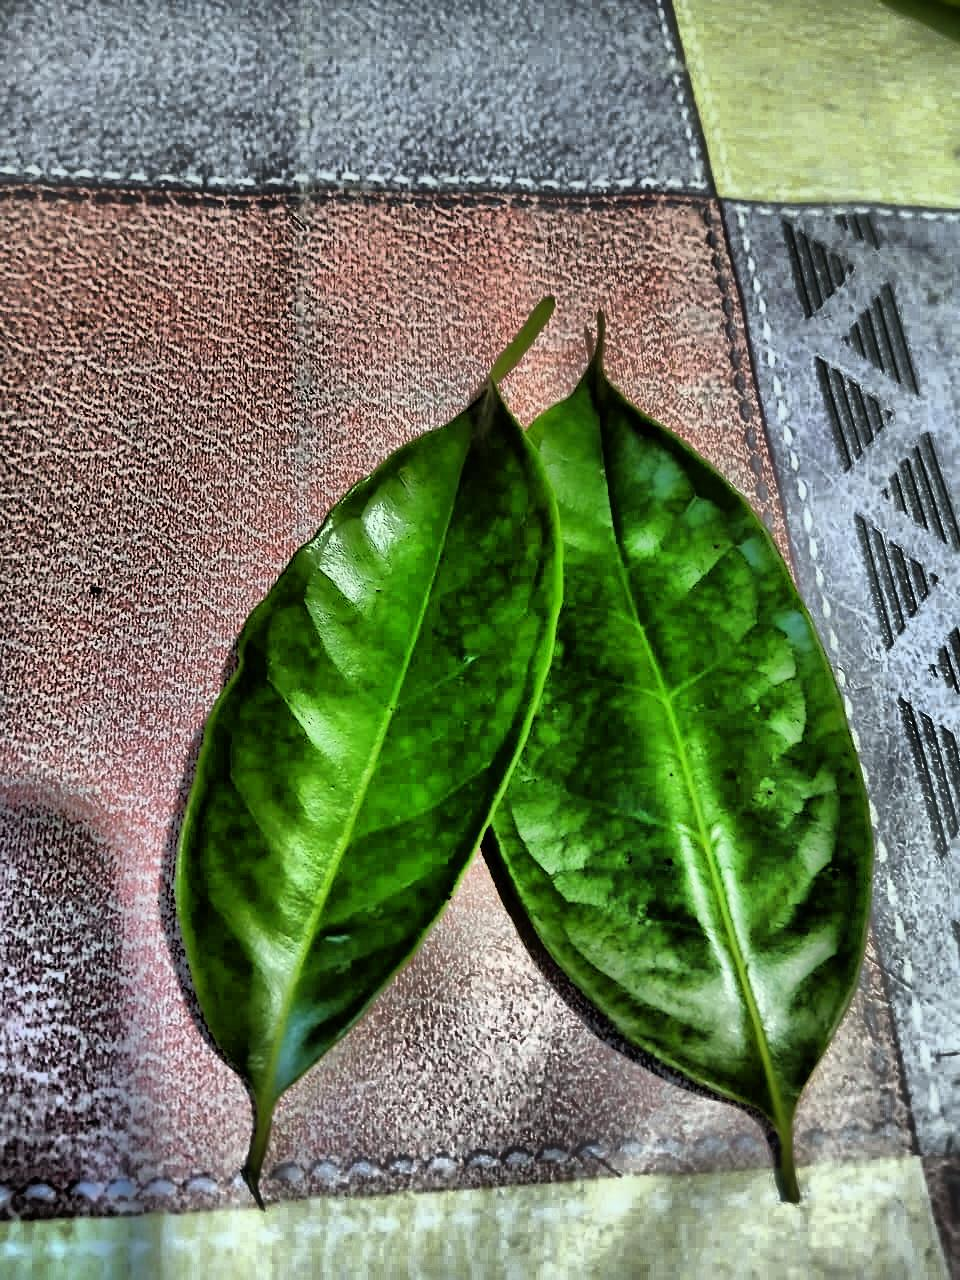daun salam: (176, 312, 869, 1198)
